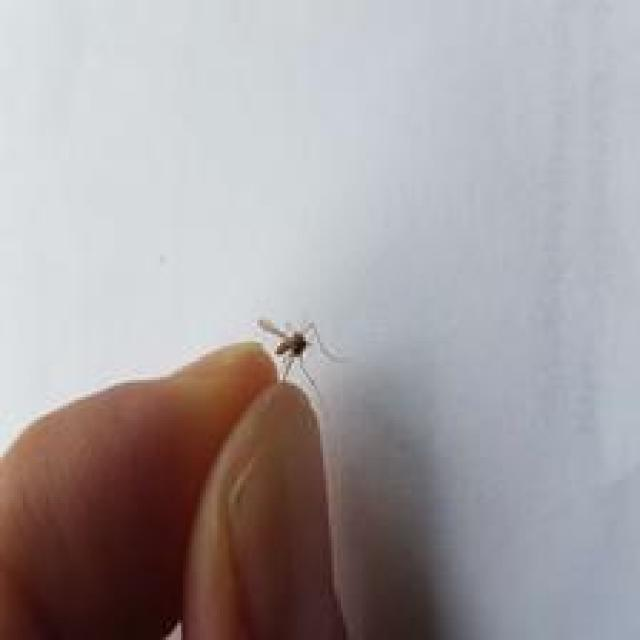Culex: (253, 316, 344, 393)
